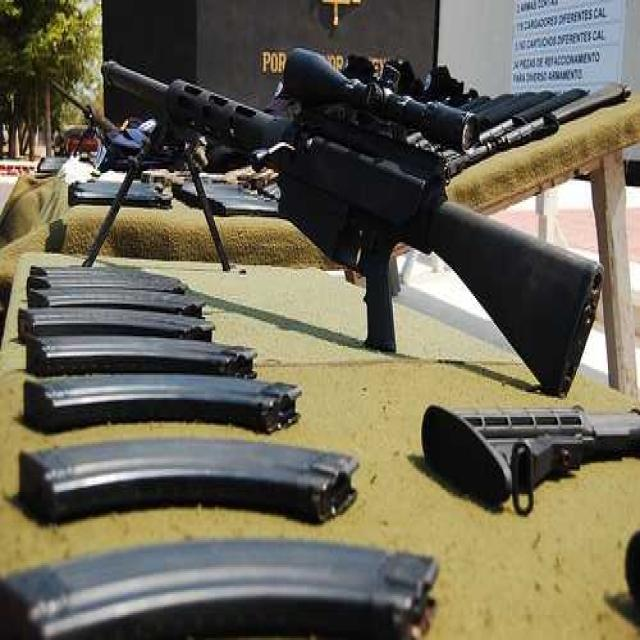heavyweapon: (88, 15, 614, 409)
